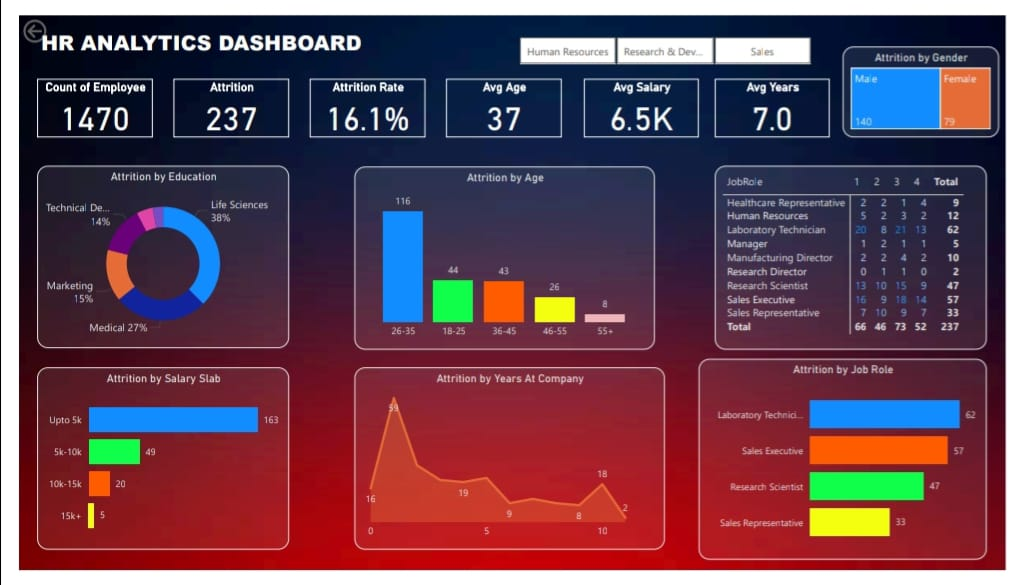

The page's visual inventory and layout, read from the dashboard file:
{"tool":"powerbi","page":{"name":"Page 1","canvas":[1280,720],"ordinal":0},"visuals":[{"type":"card","title":"Count of Employee","fields":{"Values":["CountNonNull(HR_Analytics.EmpID)"]},"box":[23.3,82.1,149.6,75.5],"z":0},{"type":"card","title":"Attrition","fields":{"Values":["Sum(HR_Analytics.AttritionCount)"]},"box":[200.3,82.1,149.6,75.5],"z":1000},{"type":"card","title":"Attrition Rate","fields":{"Values":["HR_Analytics.AttritionRate"]},"box":[377.4,82.1,149.6,75.5],"z":2000},{"type":"card","title":"Avg Age","fields":{"Values":["Avg(HR_Analytics.Age)"]},"box":[554.4,82.1,149.6,75.5],"z":3000},{"type":"card","title":"Avg Salary","fields":{"Values":["Avg(HR_Analytics.MonthlyIncome)"]},"box":[732.8,82.1,149.6,75.5],"z":4000},{"type":"card","title":"Avg Years","fields":{"Values":["Avg(HR_Analytics.YearsAtCompany)"]},"box":[902.9,82.1,149.6,75.5],"z":5000},{"type":"donutChart","title":" Attrition by Education","fields":{"Category":["HR_Analytics.EducationField"],"Y":["Sum(HR_Analytics.AttritionCount)"]},"box":[23.3,194.6,326.6,237.4],"z":6000},{"type":"columnChart","title":" Attrition by Age","fields":{"Category":["HR_Analytics.AgeGroup"],"Y":["Sum(HR_Analytics.AttritionCount)"]},"box":[435,196.2,389.7,237.4],"z":7000},{"type":"pivotTable","fields":{"Rows":["HR_Analytics.JobRole"],"Values":["Sum(HR_Analytics.AttritionCount)"],"Columns":["HR_Analytics.JobSatisfaction"]},"box":[902.9,194.9,352.7,238.8],"z":8000},{"type":"actionButton","box":[0,0,100,40],"z":9000},{"type":"barChart","title":" Attrition by Salary Slab","fields":{"Category":["HR_Analytics.SalarySlab"],"Y":["Sum(HR_Analytics.AttritionCount)"]},"box":[23.3,456.9,326.6,237.4],"z":10000},{"type":"barChart","title":" Attrition by Job Role","fields":{"Category":["HR_Analytics.JobRole"],"Y":["Sum(HR_Analytics.AttritionCount)"]},"box":[882.3,446,373.2,260.7],"z":11000},{"type":"areaChart","title":" Attrition by Years At Company","fields":{"Category":["HR_Analytics.YearsAtCompany"],"Y":["Sum(HR_Analytics.AttritionCount)"]},"box":[435,456.9,403.4,237.4],"z":12000},{"type":"treemap","title":" Attrition by Gender","fields":{"Group":["HR_Analytics.Gender"],"Values":["Sum(HR_Analytics.AttritionCount)"]},"box":[1069,39.8,203.1,118],"z":13000},{"type":"slicer","fields":{"Values":["HR_Analytics.Department"]},"box":[624.4,20.6,426.8,48],"z":14000},{"type":"textbox","box":[23.3,11,503.6,57.6],"z":15000}]}

Visuals, with their boxes in screenshot pixels (x1, y1, x2, y2), scaled from the page's 1280x720 canvas onto the 1017x585 screenshot:
"Count of Employee" card: <bbox>19, 67, 137, 128</bbox>
"Attrition" card: <bbox>159, 67, 278, 128</bbox>
"Attrition Rate" card: <bbox>300, 67, 419, 128</bbox>
"Avg Age" card: <bbox>440, 67, 559, 128</bbox>
"Avg Salary" card: <bbox>582, 67, 701, 128</bbox>
"Avg Years" card: <bbox>717, 67, 836, 128</bbox>
" Attrition by Education" donutChart: <bbox>19, 158, 278, 351</bbox>
" Attrition by Age" columnChart: <bbox>346, 159, 655, 352</bbox>
pivotTable - HR_Analytics.JobRole x Sum(HR_Analytics.AttritionCount): <bbox>717, 158, 998, 352</bbox>
actionButton: <bbox>0, 0, 79, 32</bbox>
" Attrition by Salary Slab" barChart: <bbox>19, 371, 278, 564</bbox>
" Attrition by Job Role" barChart: <bbox>701, 362, 998, 574</bbox>
" Attrition by Years At Company" areaChart: <bbox>346, 371, 666, 564</bbox>
" Attrition by Gender" treemap: <bbox>849, 32, 1011, 128</bbox>
slicer - HR_Analytics.Department: <bbox>496, 17, 835, 56</bbox>
textbox: <bbox>19, 9, 419, 56</bbox>
